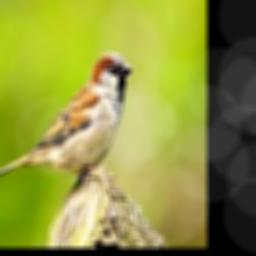Sparrow: (0, 51, 133, 188)
